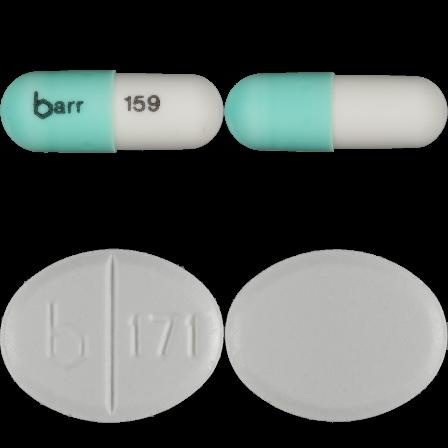0555-0159: (0, 0, 224, 224)
